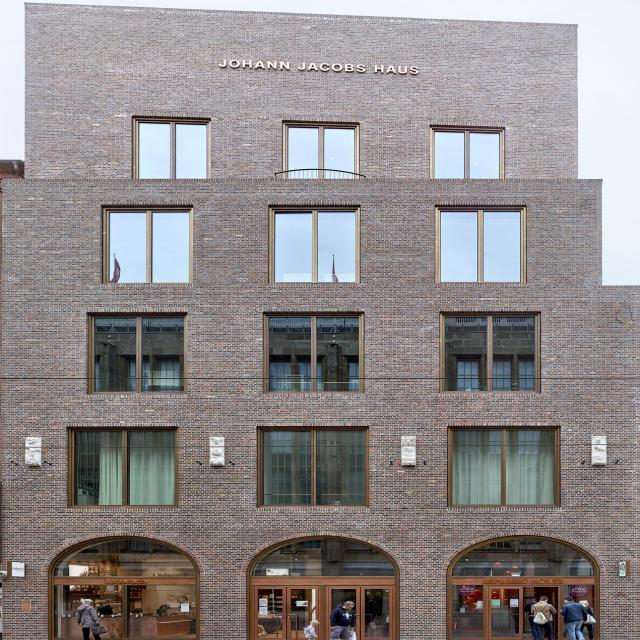door: (448, 576, 600, 640), (50, 577, 197, 640), (253, 577, 397, 639)
window: (52, 533, 205, 639), (452, 535, 600, 640), (250, 536, 398, 640), (450, 423, 562, 508), (71, 425, 183, 509), (261, 427, 367, 505), (443, 307, 540, 391), (431, 199, 528, 283), (97, 200, 194, 284), (92, 305, 188, 389), (270, 309, 359, 392), (268, 202, 357, 285), (133, 116, 208, 180), (433, 124, 506, 181), (286, 122, 359, 179)
